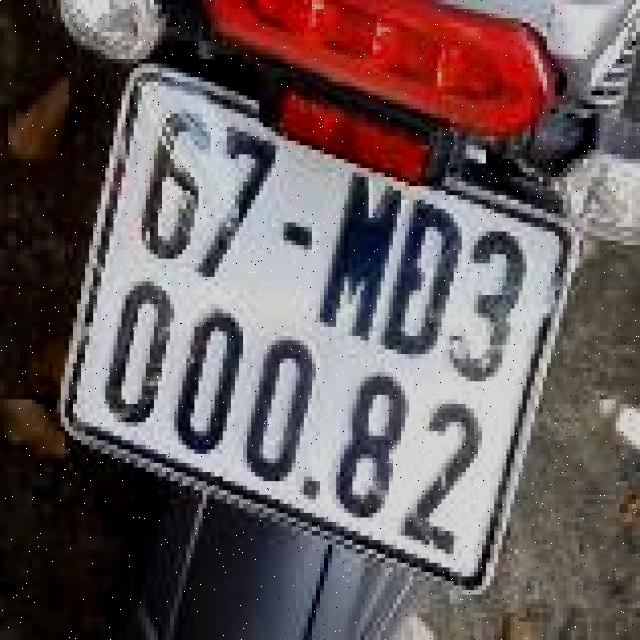0: (97, 250, 174, 449), (172, 282, 245, 468), (245, 311, 314, 492)
2: (409, 372, 482, 558)
3: (452, 204, 532, 395)
6: (136, 84, 212, 284)
7: (204, 116, 274, 311)
8: (332, 340, 405, 526)
D: (395, 177, 464, 372)
M: (328, 136, 405, 359)
